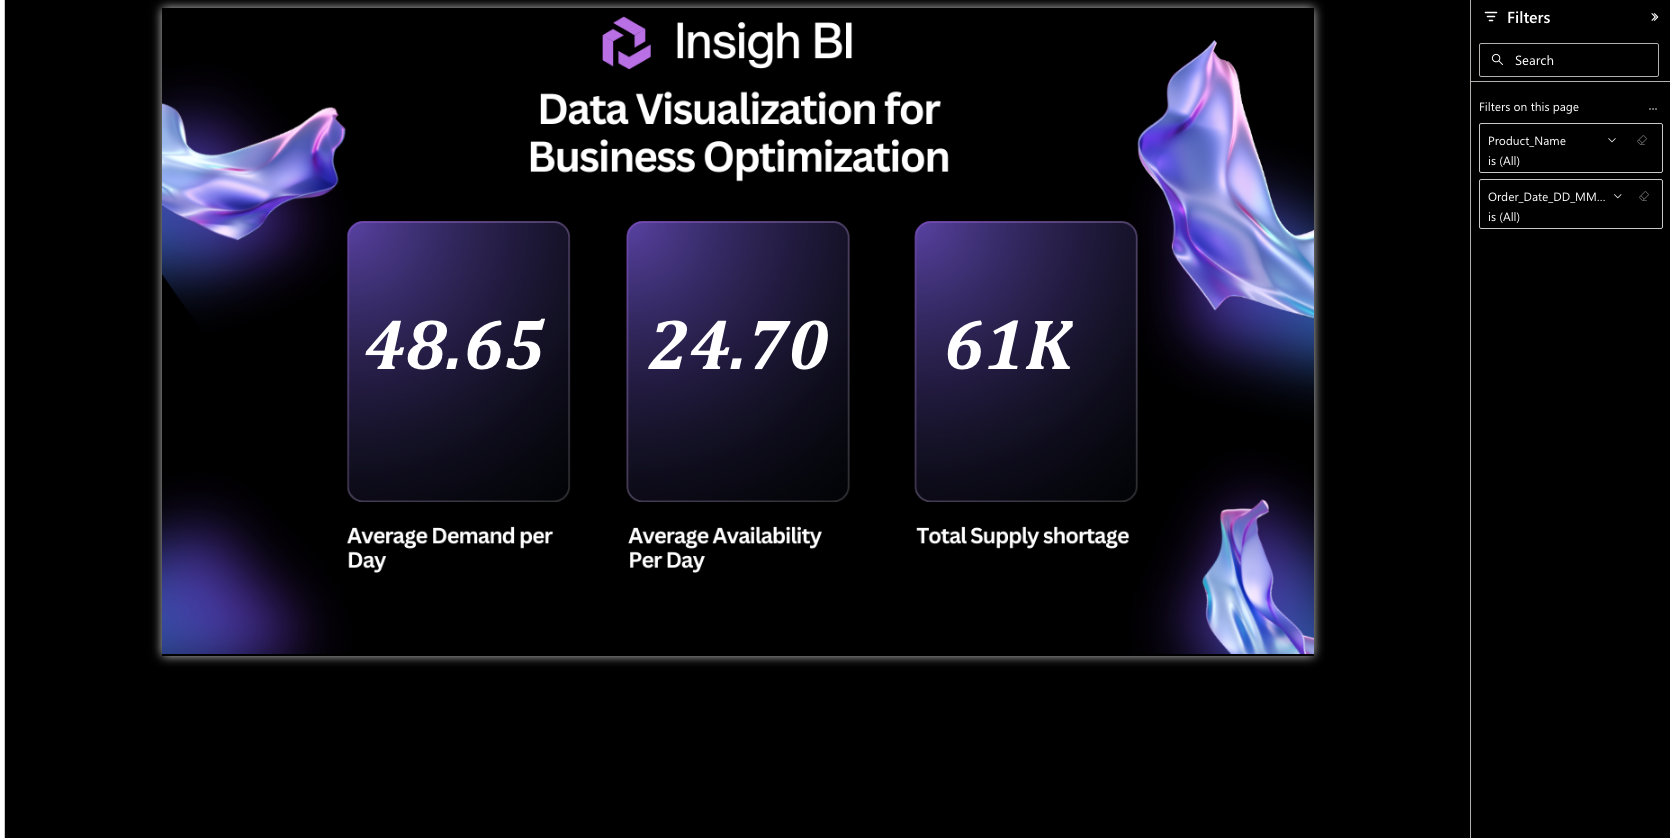

The page's visual inventory and layout, read from the dashboard file:
{"tool":"powerbi","page":{"name":"Page 1","canvas":[1280,720],"ordinal":0},"visuals":[{"type":"cardVisual","fields":{"Data":["measure.Avg Demand Per Day"]},"box":[195.4,237.7,267.8,265.4],"z":0},{"type":"cardVisual","fields":{"Data":["measure.Avg Availability Pre Day"]},"box":[511.5,295.6,300.4,149.6],"z":1000},{"type":"cardVisual","fields":{"Data":["measure.Total Supply Shortage"]},"box":[838.5,295.6,300.4,149.6],"z":2000}]}

Visuals, with their boxes on the page's 1280x720 design canvas (x1, y1, x2, y2). These are canvas units, not pixel positions in the 1670x838 screenshot, which may show the page scaled, cropped or inside an application window:
cardVisual - measure.Avg Demand Per Day: <bbox>195, 238, 463, 503</bbox>
cardVisual - measure.Avg Availability Pre Day: <bbox>512, 296, 812, 445</bbox>
cardVisual - measure.Total Supply Shortage: <bbox>838, 296, 1139, 445</bbox>
